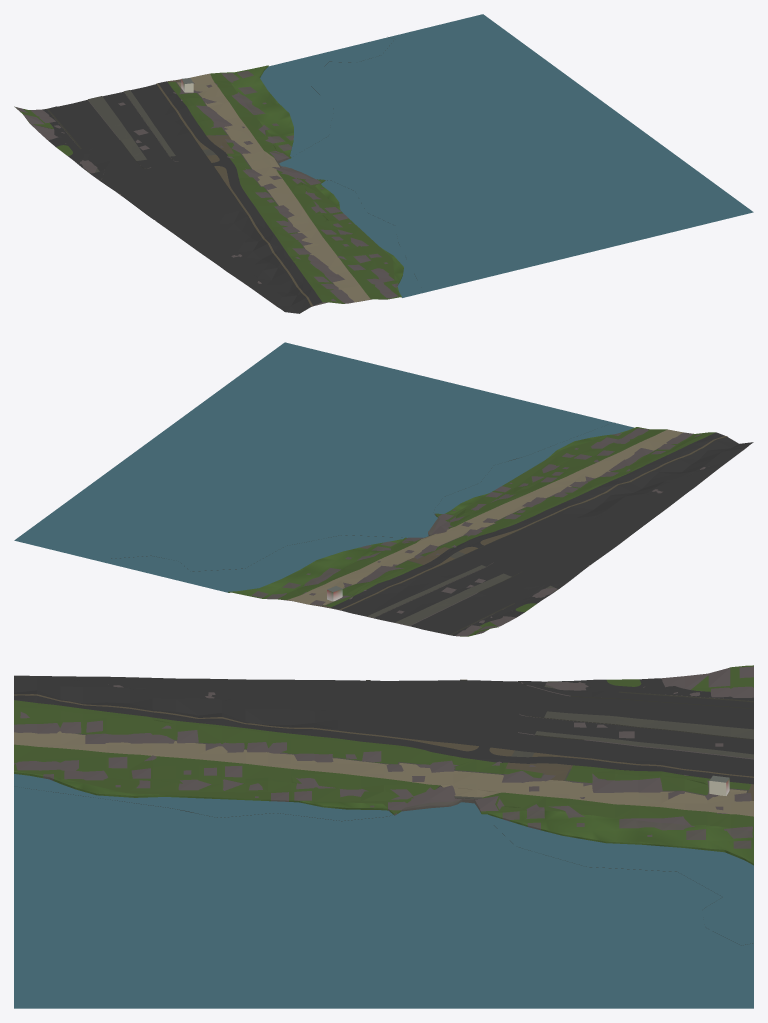
3 views of the same model, one above another, from view 1: azimuth 30°, elevation 25°; view 2: azimuth 150°, elevation 25°; view 3: azimuth 270°, elevation 25° (orthographic). The views are drawn at different scales.
Parts seen in each view (by area): view 1: c_m09_m13; view 2: c_m09_m13; view 3: c_m09_m13, append:c_m09_m13.
Part boxes in pixels (box(x1,y1,x2,y2)): c_m09_m13: box(14, 14, 753, 313); c_m09_m13: box(14, 342, 753, 636); c_m09_m13: box(14, 665, 753, 1008); append:c_m09_m13: box(14, 772, 753, 865).
Size of the model in its own units: 128 by 5.79 by 128.
